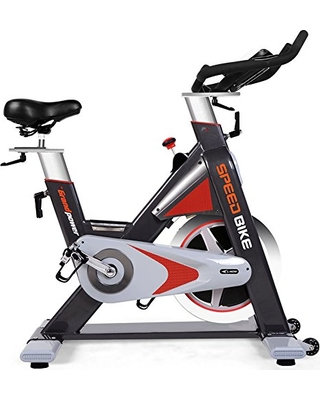gym_bike: (9, 38, 320, 368)
